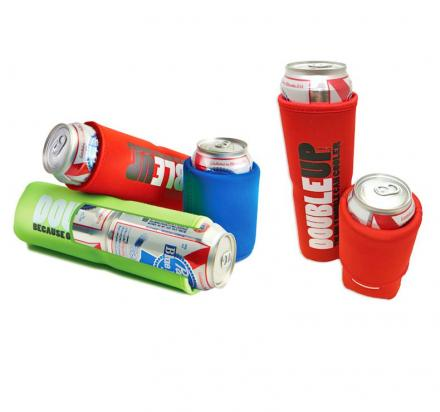beer can: (106, 200, 249, 308), (39, 118, 180, 210), (347, 170, 424, 238), (282, 59, 371, 113), (185, 130, 259, 186)
